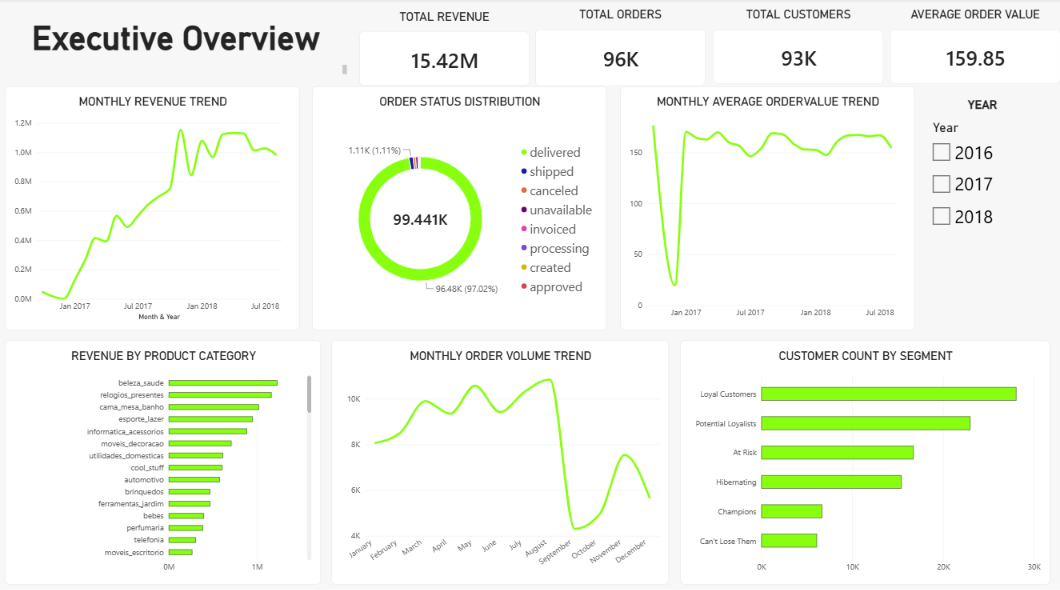

The dashboard page shown, as its layout file describes it:
{"tool":"powerbi","page":{"name":"Page 1","canvas":[1920,1080],"ordinal":0},"visuals":[{"type":"lineChart","title":"MONTHLY REVENUE TREND","fields":{"Category":["ecommerce_analytics orders.order_purchase_timestamp.Variation.Date Hierarchy.Year","ecommerce_analytics orders.order_purchase_timestamp.Variation.Date Hierarchy.Month"],"Y":["ecommerce_analytics order_payments.Total Revenue"]},"box":[10,159.9,532.8,440.8],"z":0},{"type":"slicer","title":"YEAR","fields":{"Values":["ecommerce_analytics orders.order_purchase_timestamp.Variation.Date Hierarchy.Year"]},"box":[1681.5,178.6,196.5,393],"z":1000},{"type":"clusteredBarChart","title":"REVENUE BY PRODUCT CATEGORY","fields":{"Category":["ecommerce_analytics products.product_category_name"],"Y":["Sum(ecommerce_analytics order_items.price)"]},"box":[10,619.5,571.5,441.6],"z":2000},{"type":"donutChart","title":"ORDER STATUS DISTRIBUTION","fields":{"Category":["ecommerce_analytics orders.order_status"],"Y":["Count(ecommerce_analytics orders.order_id)"]},"box":[566.4,159.3,532.8,440.8],"z":3000},{"type":"lineChart","title":"MONTHLY ORDER VOLUME TREND","fields":{"Category":["ecommerce_analytics orders.order_purchase_timestamp.Variation.Date Hierarchy.Year","ecommerce_analytics orders.order_purchase_timestamp.Variation.Date Hierarchy.Month"],"Y":["CountNonNull(ecommerce_analytics orders.order_id)"]},"box":[601.5,619.5,611.5,441.6],"z":4000},{"type":"lineChart","title":"MONTHLY AVERAGE ORDERVALUE TREND","fields":{"Category":["ecommerce_analytics orders.order_purchase_timestamp.Variation.Date Hierarchy.Year","ecommerce_analytics orders.order_purchase_timestamp.Variation.Date Hierarchy.Month"],"Y":["ecommerce_analytics order_payments.Average Order Value"]},"box":[1123.1,159.9,533,441],"z":5000},{"type":"clusteredBarChart","title":"CUSTOMER COUNT BY SEGMENT","fields":{"Category":["rfm_customer_segments.segment"],"Y":["Count(rfm_customer_segments.customer_unique_id)"]},"box":[1233,619.5,669.4,441.6],"z":6000},{"type":"textbox","title":"Executive Overview","box":[11.2,35.7,618.6,102.7],"z":6001},{"type":"cardVisual","title":"TOTAL REVENUE","fields":{"Data":["ecommerce_analytics order_payments.Total Revenue"]},"box":[652.1,20.1,308.2,138.5],"z":6002},{"type":"cardVisual","title":"TOTAL ORDERS","fields":{"Data":["ecommerce_analytics order_payments.Total Orders"]},"box":[969.2,15.6,308.2,142.9],"z":6003},{"type":"cardVisual","title":"TOTAL CUSTOMERS","fields":{"Data":["ecommerce_analytics order_payments.Total Customers"]},"box":[1293,15.6,308.2,138.5],"z":6004},{"type":"cardVisual","title":"AVERAGE ORDER VALUE","fields":{"Data":["ecommerce_analytics order_payments.Average Order Value"]},"box":[1612.3,15.6,308.2,138.5],"z":6005}]}

Visuals, with their boxes in screenshot pixels (x1, y1, x2, y2), scaled from the page's 1920x1080 canvas onto the 1060x590 screenshot:
"MONTHLY REVENUE TREND" lineChart: [x1=6, y1=87, x2=300, y2=328]
"YEAR" slicer: [x1=928, y1=98, x2=1037, y2=312]
"REVENUE BY PRODUCT CATEGORY" clusteredBarChart: [x1=6, y1=338, x2=321, y2=580]
"ORDER STATUS DISTRIBUTION" donutChart: [x1=313, y1=87, x2=607, y2=328]
"MONTHLY ORDER VOLUME TREND" lineChart: [x1=332, y1=338, x2=670, y2=580]
"MONTHLY AVERAGE ORDERVALUE TREND" lineChart: [x1=620, y1=87, x2=914, y2=328]
"CUSTOMER COUNT BY SEGMENT" clusteredBarChart: [x1=681, y1=338, x2=1050, y2=580]
"Executive Overview" textbox: [x1=6, y1=20, x2=348, y2=76]
"TOTAL REVENUE" cardVisual: [x1=360, y1=11, x2=530, y2=87]
"TOTAL ORDERS" cardVisual: [x1=535, y1=9, x2=705, y2=87]
"TOTAL CUSTOMERS" cardVisual: [x1=714, y1=9, x2=884, y2=84]
"AVERAGE ORDER VALUE" cardVisual: [x1=890, y1=9, x2=1059, y2=84]
